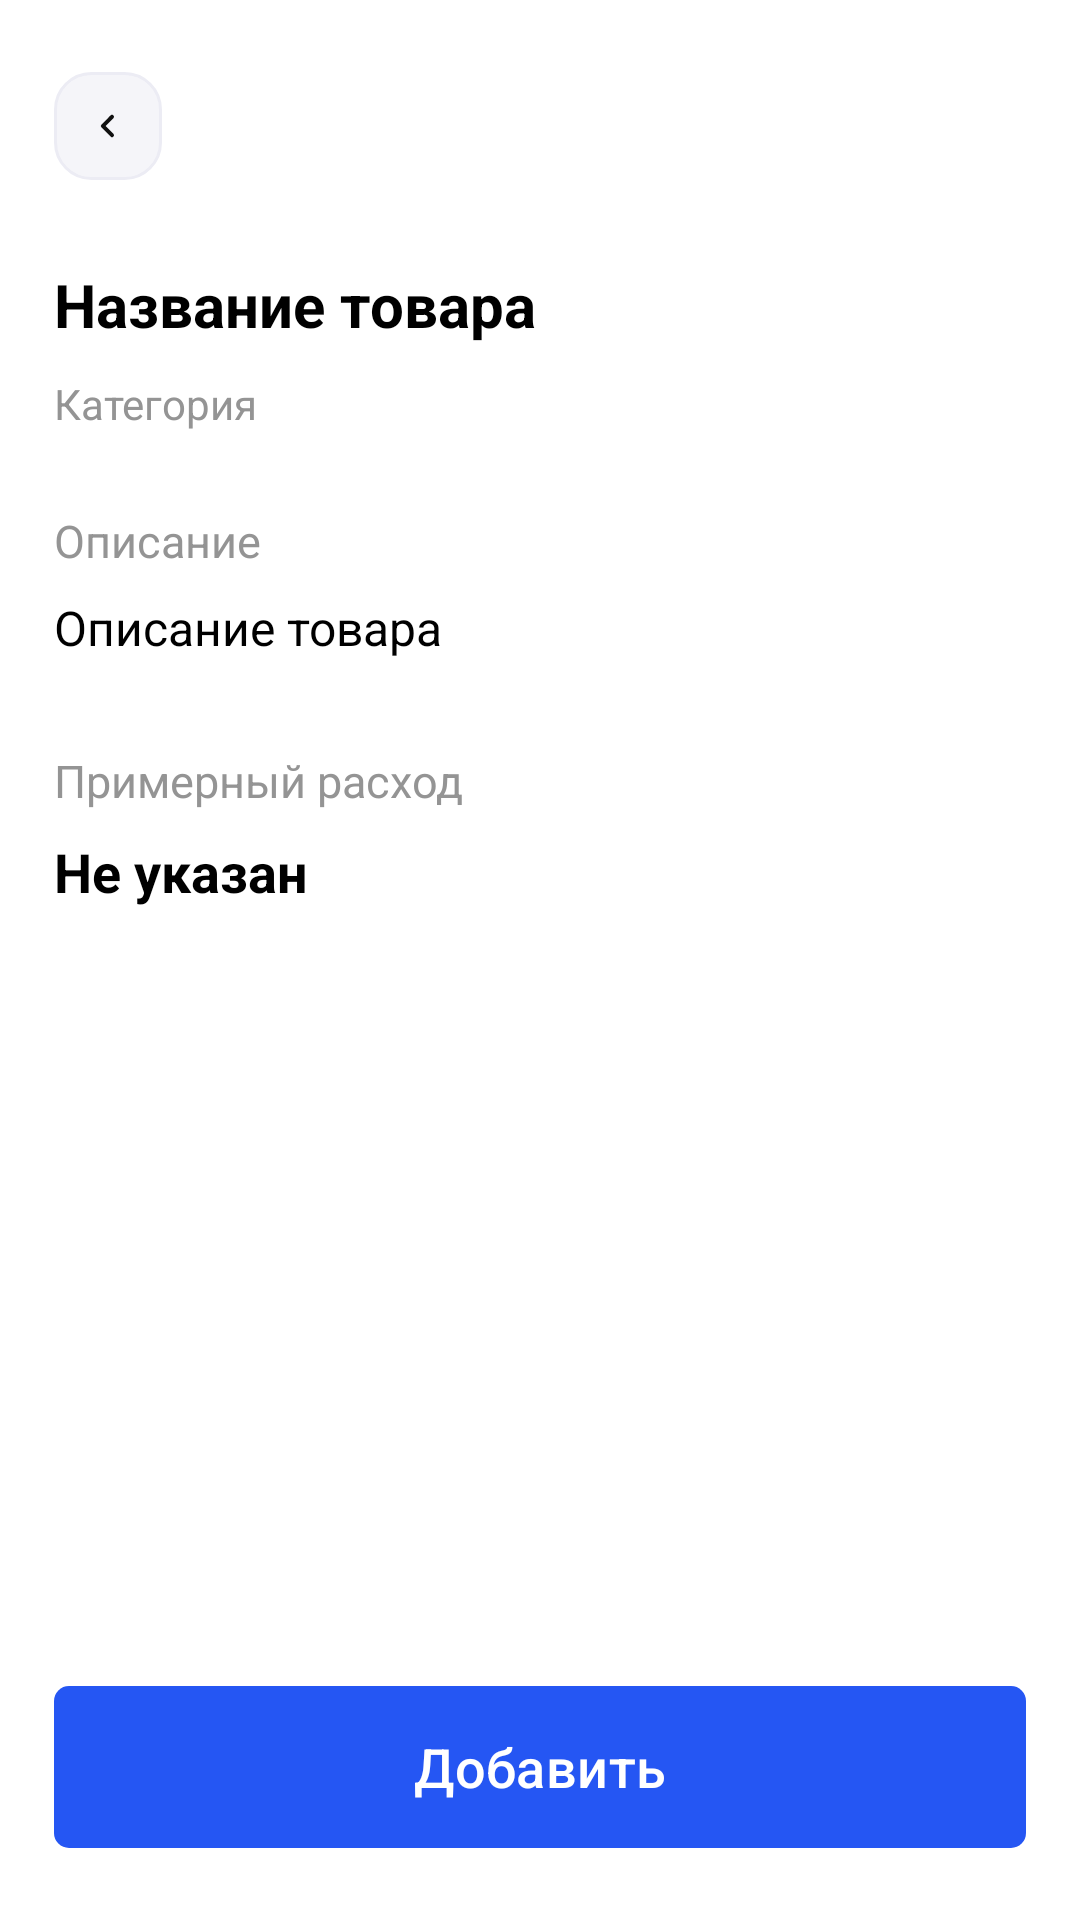

Locate icon controls on the screen. Image size 1080px×1920px, boxes as bbox(x1, y1, x2, y2).
arrow back left: bbox(54, 72, 162, 180)
